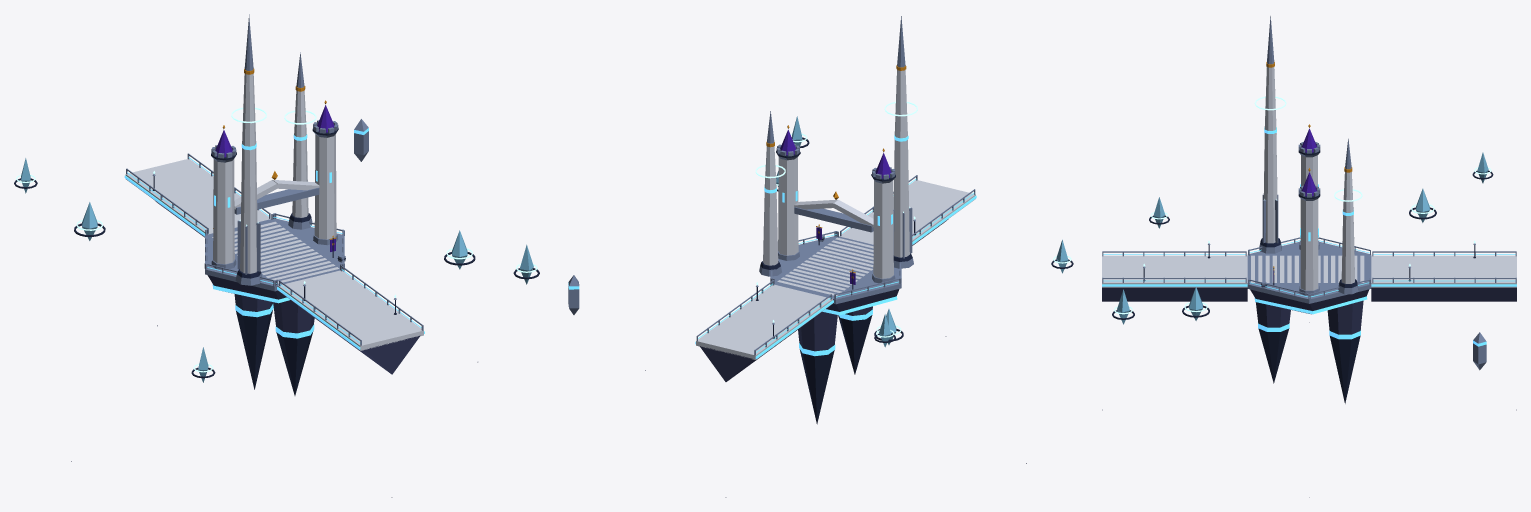
Rendered from chunk_path_straight.fbx.
The picture shows the model from 3 angles, left to right: view 1: azimuth 30°, elevation 25°; view 2: azimuth 150°, elevation 25°; view 3: azimuth 270°, elevation 25°; orthographic projection. The views are drawn at different scales.
Parts seen in each view (by area): view 1: chunk_path_straight; view 2: chunk_path_straight; view 3: chunk_path_straight.
Boxes of the visible parts, x1,y1,x2,y2 form: chunk_path_straight: (14, 14, 539, 497); chunk_path_straight: (568, 16, 1073, 497); chunk_path_straight: (1102, 16, 1516, 497).
Size of the model in its own units: 256 by 256 by 256.
